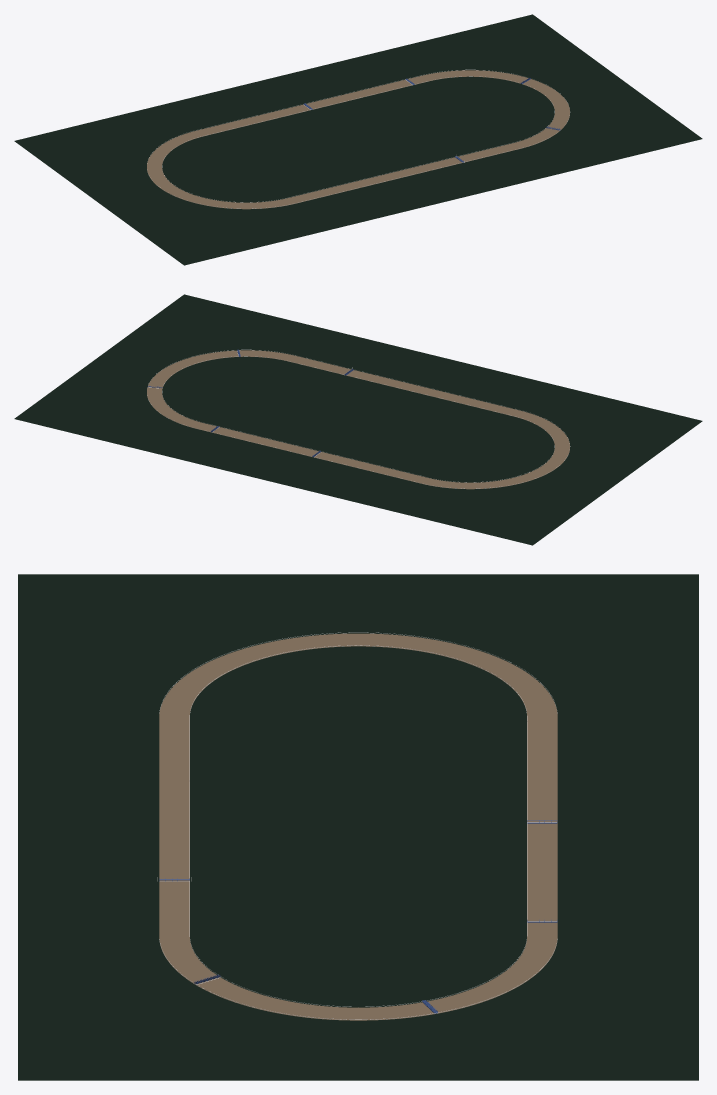
Rendered from generic-synthetic-oval.glb.
3 views of the same model, one above another, from view 1: azimuth 30°, elevation 25°; view 2: azimuth 150°, elevation 25°; view 3: azimuth 270°, elevation 25° (orthographic). The views are drawn at different scales.
Visible parts, largest first — view 1: Terrain, Surface; view 2: Terrain, Surface; view 3: Terrain, Surface, RailInner.
Boxes of the visible parts, x1=… form: Terrain: x1=14, y1=14, x2=702, y2=265; Surface: x1=147, y1=70, x2=569, y2=209; Terrain: x1=14, y1=294, x2=702, y2=545; Surface: x1=147, y1=350, x2=569, y2=489; Terrain: x1=18, y1=574, x2=698, y2=1080; Surface: x1=159, y1=633, x2=557, y2=1020; RailInner: x1=189, y1=645, x2=527, y2=1006.
Bounding box in the file's own units: 1019 × 4.8 × 579.
